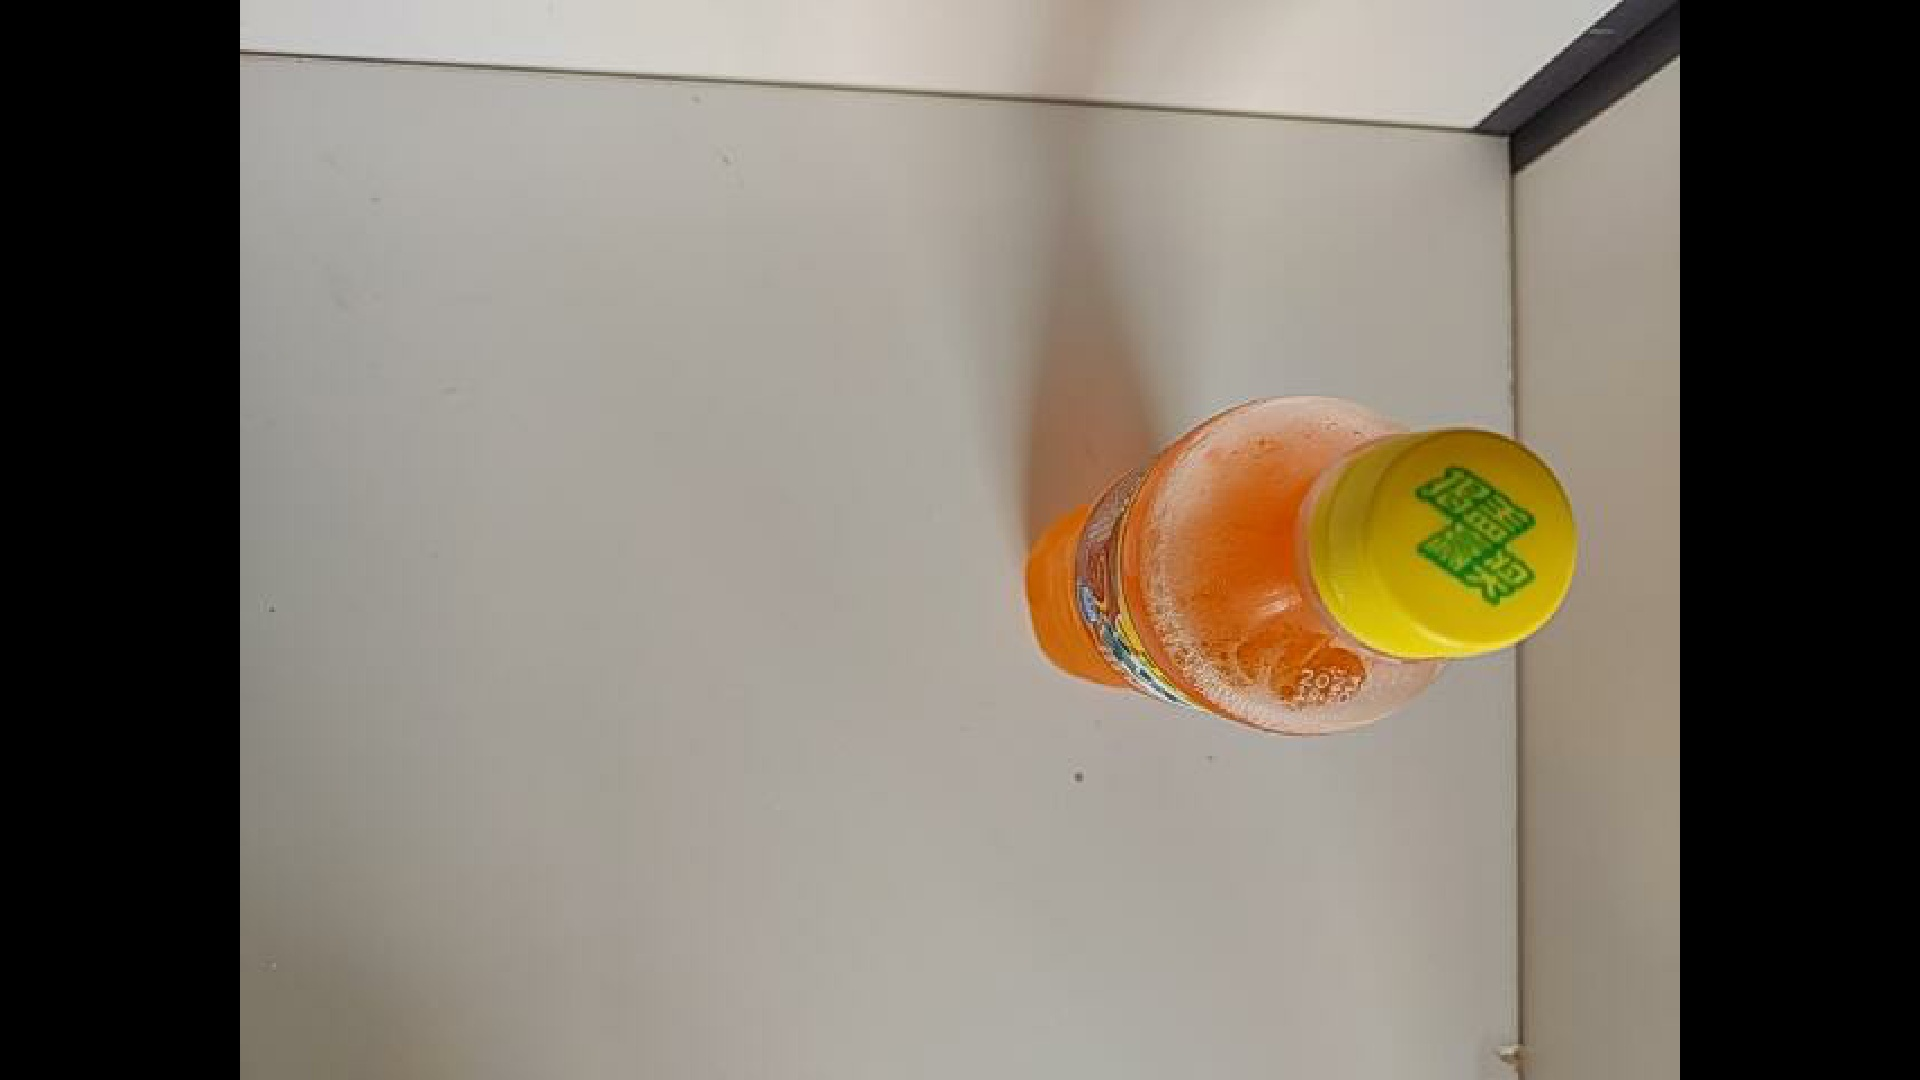fenta: (1021, 393, 1581, 738)
